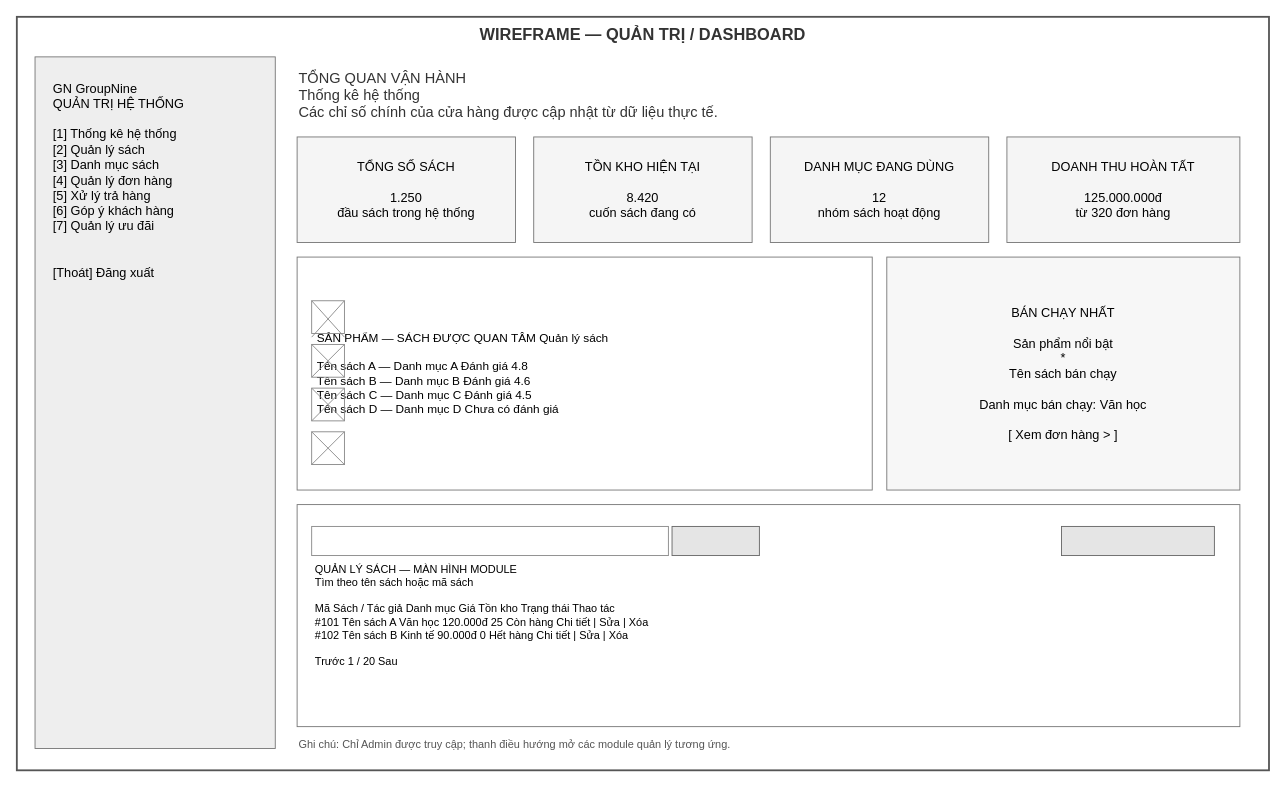
This 1285x786 diagram has some shape labels left out. Each missing label, with the centre of its shape:
"Thêm sách" belongs at [1137,541].
"Tên sách hoặc mã sách" belongs at [489,541].
"Tìm kiếm" belongs at [715,541].
